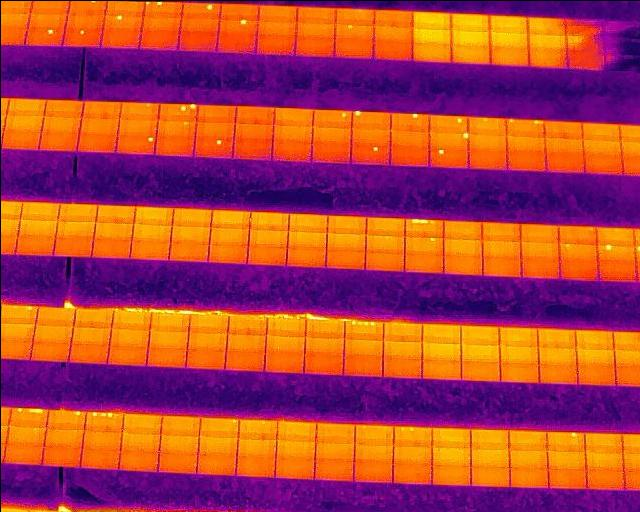Cell: (351, 142, 389, 163), (546, 430, 584, 451), (430, 147, 468, 167), (195, 138, 232, 158), (238, 419, 276, 438), (200, 417, 238, 436), (47, 410, 85, 429), (389, 113, 428, 131), (119, 102, 158, 120), (597, 243, 636, 261), (558, 242, 597, 260), (404, 235, 443, 253), (24, 28, 64, 45), (117, 136, 154, 154), (0, 305, 37, 323), (63, 28, 100, 46), (351, 110, 389, 127), (429, 115, 467, 132), (313, 110, 351, 127), (333, 24, 373, 40), (157, 120, 194, 137), (429, 132, 468, 148), (468, 117, 506, 133), (219, 17, 257, 33), (104, 14, 142, 30), (180, 3, 219, 17), (68, 0, 105, 13)
Cell-Multi: (393, 426, 431, 446), (344, 320, 383, 339), (84, 412, 122, 431), (506, 119, 544, 137), (159, 103, 196, 121), (143, 0, 181, 16)
No-Anomaly: (582, 152, 623, 174), (420, 357, 460, 378), (597, 261, 636, 282), (545, 149, 582, 171), (488, 46, 528, 66), (354, 460, 392, 481), (296, 35, 334, 56), (264, 352, 303, 372), (538, 364, 577, 384), (574, 330, 613, 350), (354, 424, 393, 444), (389, 145, 428, 165), (343, 355, 382, 375), (382, 357, 421, 377), (537, 328, 576, 348), (118, 450, 157, 470), (247, 244, 286, 264), (15, 235, 54, 255), (431, 427, 470, 447), (585, 468, 624, 488), (41, 446, 80, 466), (481, 256, 520, 276), (169, 240, 208, 260), (316, 422, 354, 442), (272, 140, 310, 160), (372, 42, 412, 61), (303, 354, 343, 373), (311, 142, 349, 162), (334, 40, 374, 59), (469, 148, 507, 168), (123, 413, 161, 433), (508, 430, 546, 450), (255, 34, 295, 53), (80, 448, 118, 468), (83, 429, 121, 449), (158, 451, 196, 471), (4, 444, 42, 464), (275, 458, 314, 477), (225, 351, 264, 370), (186, 349, 225, 368), (146, 347, 185, 366), (499, 362, 538, 381), (276, 420, 315, 439), (470, 467, 509, 486), (577, 366, 616, 385), (412, 43, 451, 62), (459, 325, 498, 344), (314, 461, 353, 480), (460, 361, 499, 380), (53, 236, 92, 255), (526, 15, 565, 34), (431, 446, 470, 465), (442, 237, 481, 256), (382, 322, 421, 341), (208, 243, 247, 262), (585, 451, 624, 470), (584, 433, 623, 452), (546, 451, 585, 470), (489, 30, 528, 49), (442, 255, 481, 274), (130, 240, 169, 259), (442, 219, 481, 238), (481, 221, 520, 240), (286, 247, 325, 266), (234, 139, 271, 159), (155, 137, 193, 156), (393, 463, 431, 482), (69, 344, 107, 363), (507, 150, 545, 169), (161, 416, 199, 435), (274, 106, 312, 125), (7, 426, 45, 445), (178, 32, 216, 51), (288, 213, 326, 232), (197, 454, 235, 473), (276, 440, 314, 459), (560, 261, 598, 280), (548, 469, 586, 488), (520, 223, 558, 242), (237, 438, 275, 457), (198, 435, 236, 454), (470, 430, 508, 449), (159, 433, 197, 452), (45, 428, 83, 447), (537, 346, 577, 364), (303, 336, 343, 354), (450, 45, 490, 63), (248, 211, 288, 229), (100, 30, 140, 48), (247, 228, 287, 246), (527, 33, 567, 51), (235, 105, 274, 123), (575, 348, 614, 366), (544, 120, 583, 138), (31, 342, 70, 360), (39, 133, 78, 151), (148, 329, 187, 347), (421, 341, 460, 359), (498, 327, 537, 345), (431, 466, 470, 484), (528, 50, 567, 68), (508, 450, 547, 468), (266, 318, 305, 336), (314, 442, 353, 460), (216, 34, 255, 52), (18, 219, 57, 237), (404, 253, 443, 271), (227, 316, 266, 334), (326, 232, 365, 250), (364, 252, 403, 270), (509, 469, 548, 487), (488, 15, 527, 33), (481, 239, 520, 257), (354, 443, 393, 461), (558, 225, 597, 243), (210, 210, 249, 228), (236, 458, 274, 476), (234, 122, 272, 140), (78, 134, 116, 152), (108, 346, 146, 364), (110, 328, 148, 346), (196, 121, 234, 139), (92, 240, 130, 258), (520, 241, 558, 259), (451, 13, 489, 31), (121, 432, 159, 450), (366, 216, 404, 234), (393, 446, 431, 464), (139, 31, 177, 49), (134, 206, 172, 224), (521, 260, 559, 278), (421, 324, 459, 342), (272, 123, 312, 140), (41, 116, 81, 133), (342, 339, 382, 356), (6, 98, 46, 115), (33, 325, 73, 342), (198, 104, 235, 122), (2, 131, 39, 149), (187, 332, 226, 349), (499, 345, 538, 362), (265, 336, 304, 353), (460, 344, 499, 361), (71, 326, 110, 343), (581, 122, 620, 139), (382, 341, 421, 358), (226, 333, 265, 350), (390, 129, 429, 146), (470, 450, 509, 467), (411, 11, 450, 28), (334, 7, 373, 24), (326, 215, 365, 232), (373, 9, 412, 26), (287, 230, 326, 247), (95, 206, 134, 223), (189, 315, 228, 332), (150, 313, 189, 330), (172, 209, 211, 226), (19, 203, 58, 220), (596, 226, 635, 243), (44, 100, 82, 117), (118, 119, 156, 136), (305, 320, 343, 337), (74, 309, 112, 326), (366, 235, 404, 252), (326, 251, 364, 268), (112, 311, 150, 328), (210, 227, 248, 244), (36, 308, 74, 325), (506, 136, 545, 152), (467, 134, 506, 150), (218, 3, 257, 19), (256, 18, 295, 34), (450, 30, 489, 46), (57, 204, 96, 220), (373, 26, 412, 42), (180, 16, 219, 32), (171, 226, 210, 242), (131, 224, 170, 240), (82, 117, 118, 134), (312, 126, 350, 142), (82, 101, 120, 117), (296, 6, 334, 22), (94, 223, 132, 239), (3, 115, 43, 130), (104, 0, 144, 15), (140, 16, 180, 31), (582, 138, 621, 153), (411, 29, 450, 44), (56, 221, 95, 236), (543, 136, 584, 150), (351, 128, 389, 143), (66, 13, 104, 28), (0, 324, 35, 340), (257, 5, 296, 19), (296, 22, 333, 36), (28, 13, 65, 27)
Shadowing: (602, 18, 640, 37), (564, 17, 602, 36), (603, 53, 640, 72), (567, 52, 604, 70), (602, 37, 640, 53), (566, 36, 602, 52)
Unclassified: (8, 407, 47, 427), (404, 219, 443, 237)
